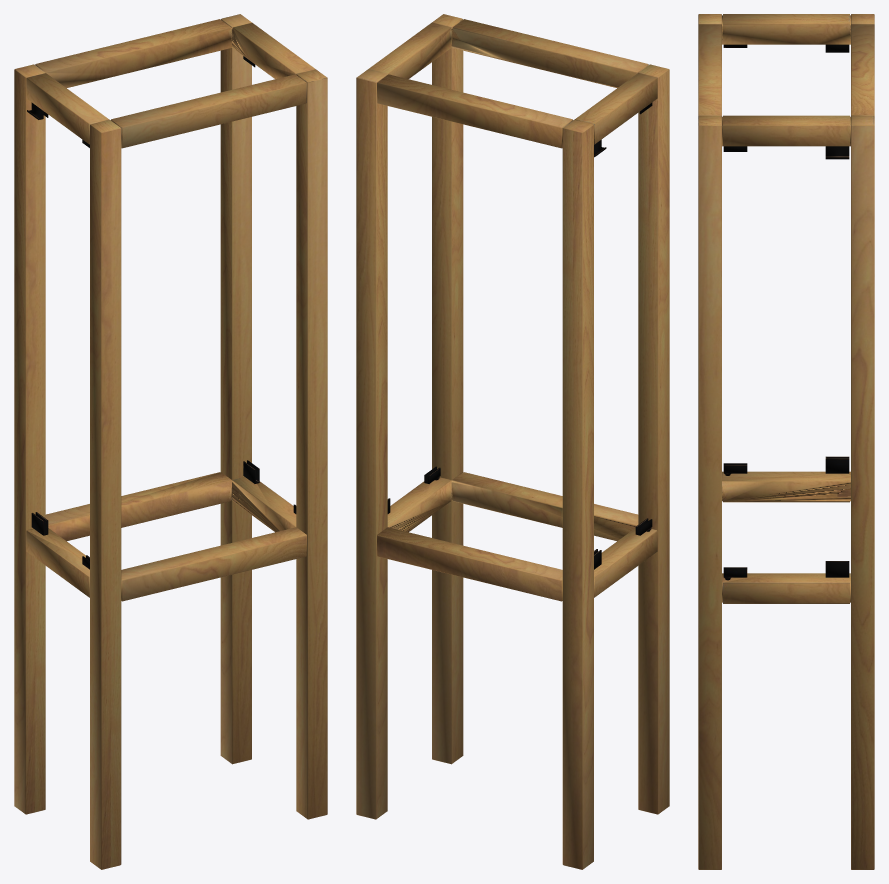
The picture shows the model from 3 angles, left to right: view 1: azimuth 30°, elevation 25°; view 2: azimuth 150°, elevation 25°; view 3: azimuth 270°, elevation 25°; orthographic projection.
Bounding box in the file's own units: 0.4821 × 1.5 × 0.3214.
1 material, 1 textured.
